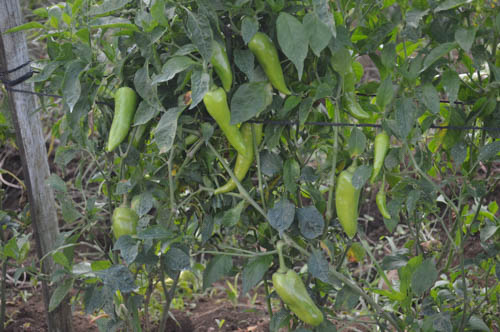ChiliPepper: (208, 122, 264, 204), (276, 266, 325, 323), (205, 89, 246, 157), (252, 32, 291, 97), (332, 169, 362, 243), (106, 86, 136, 152), (339, 63, 373, 121), (209, 33, 236, 91), (366, 129, 392, 180), (109, 208, 144, 239), (373, 191, 390, 220)
